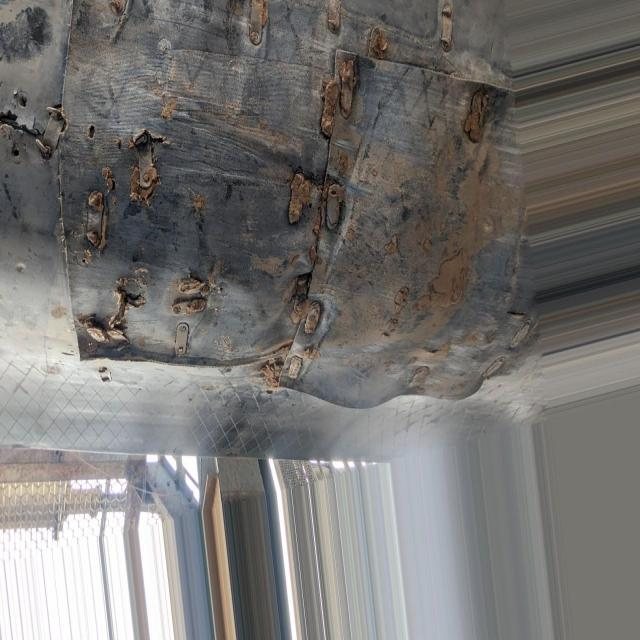patch work: (0, 0, 536, 414)
